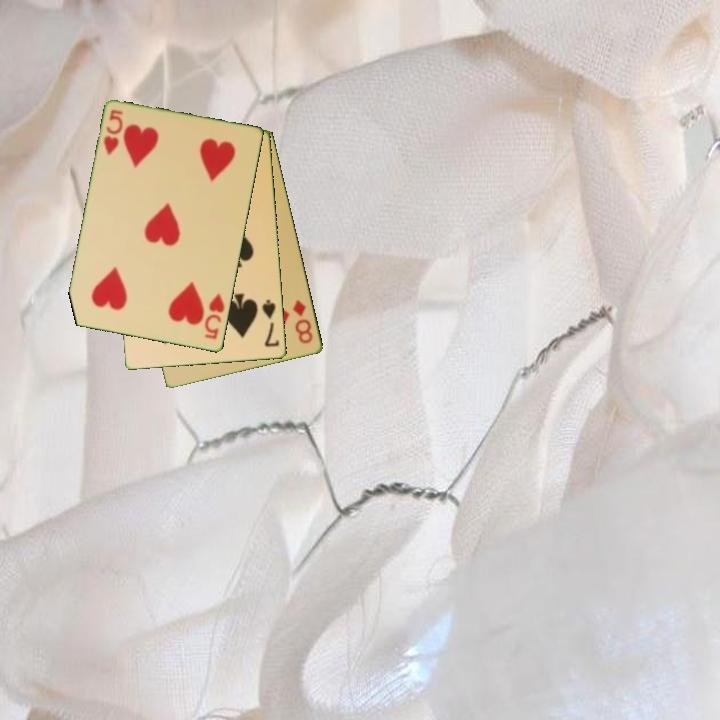5h: (201, 291, 228, 342), (100, 106, 126, 158)
7s: (259, 296, 282, 350)
8d: (289, 296, 316, 347)
